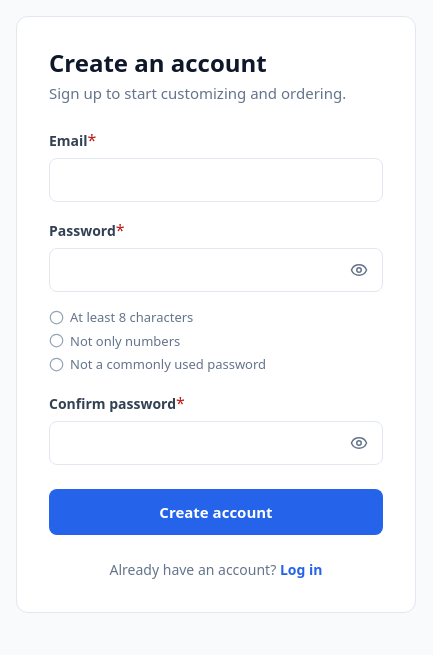
Test: RegisterPage › rejects a purely numeric password
The width and height of the screenshot is (433, 655).
Step 1. Type "shopper@example.test" into the field labelled "Email" → (216, 180), box [49,158,383,202]
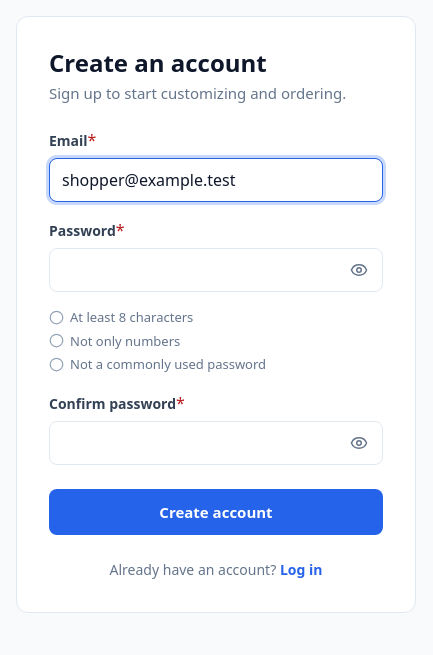
Step 2. Type "12345678" into the password field labelled "Password" → (216, 270), box [49,248,383,292]
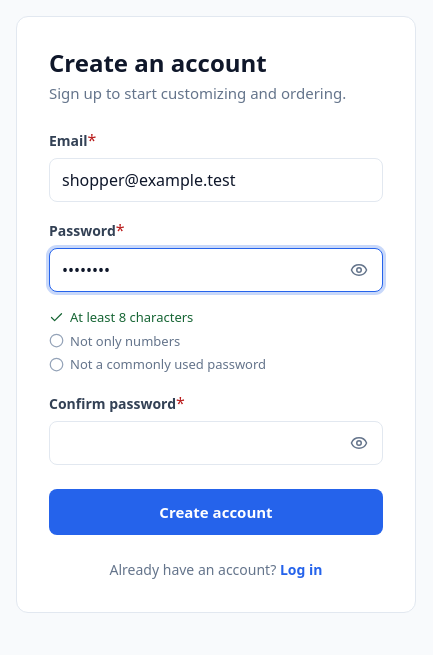
Step 3. Type "12345678" into the password field labelled "Confirm password" → (216, 443), box [49,421,383,465]
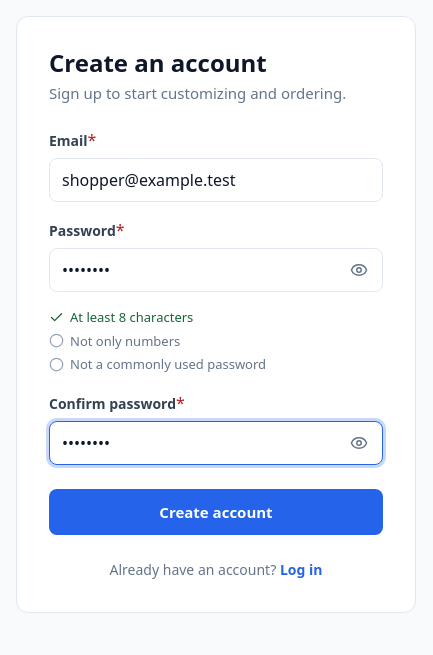
Step 4. Click the button "Create account" → (216, 512), box [49,489,383,535]
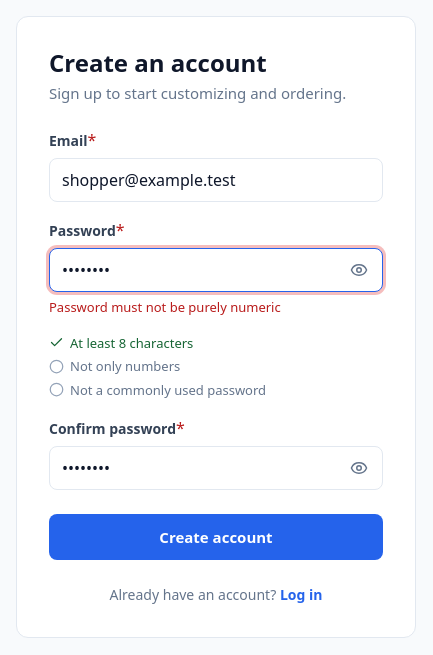
Check: the text "Password must not be purely numeric" is shown, box [49,298,281,316]
